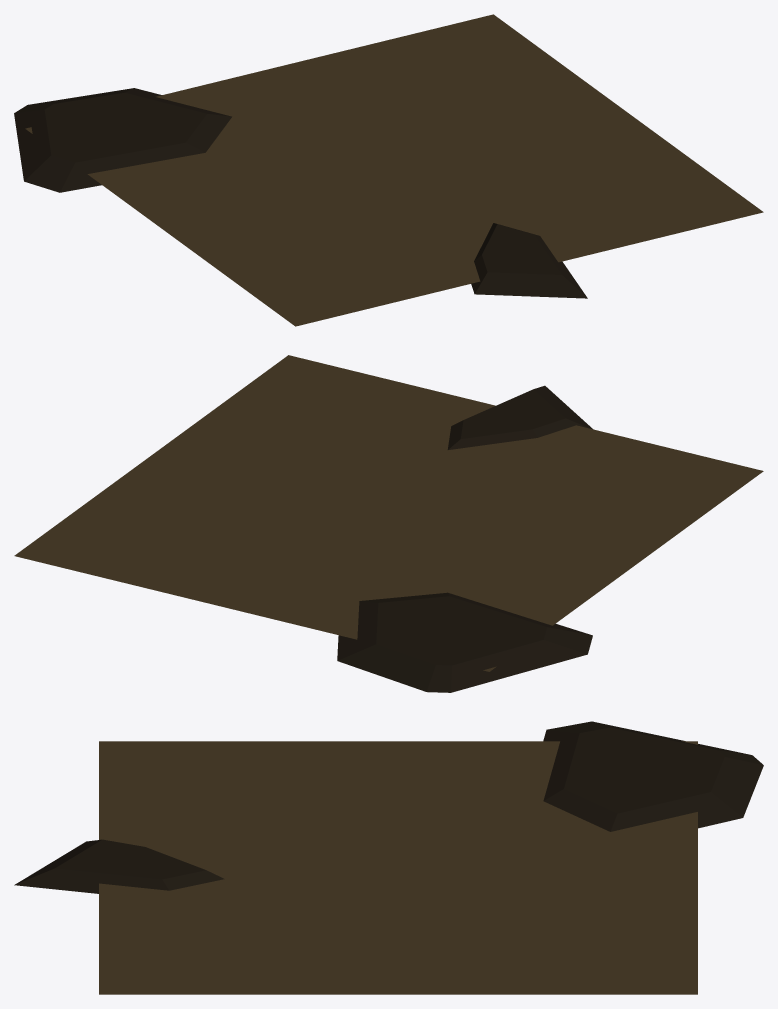
The model's file is Floor.014.fbx.
3 renders of one model, top to bottom at view 1: azimuth 30°, elevation 25°; view 2: azimuth 150°, elevation 25°; view 3: azimuth 270°, elevation 25°, orthographic. The views are drawn at different scales.
Parts seen in each view (by area): view 1: Floor.014; view 2: Floor.014; view 3: Floor.014.
Boxes of the visible parts, x1,y1,x2,y2 form: Floor.014: (14,14,763,326); Floor.014: (14,355,763,692); Floor.014: (14,721,763,994).
Size of the model in its own units: 110 by 2.4 by 125.
